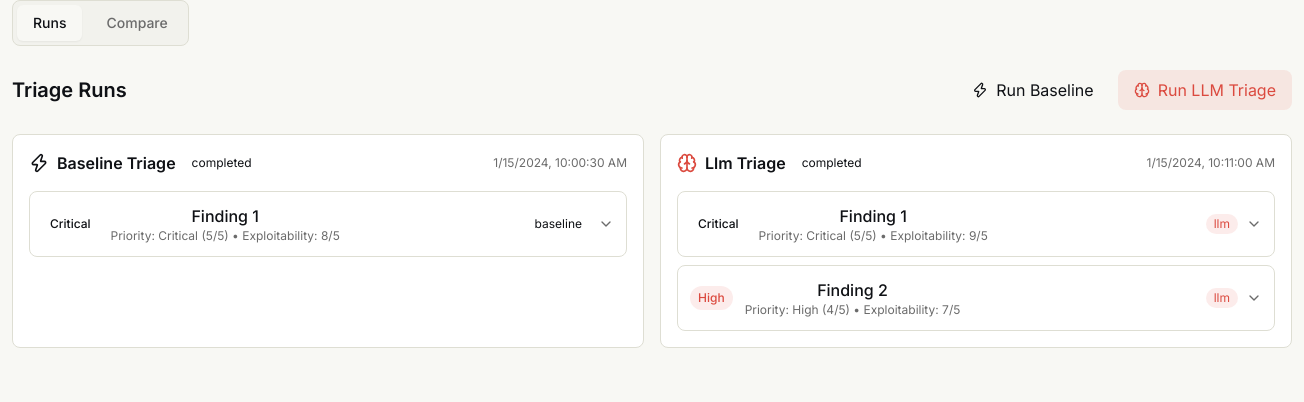
Test: TriageView › shows priority changes in compare
This screenshot has width=1304, height=402.
Check: the button "Run Baseline" is shown, box [956,70,1110,110]
Click the button "Compare": point(137, 23) [90,5,184,41]
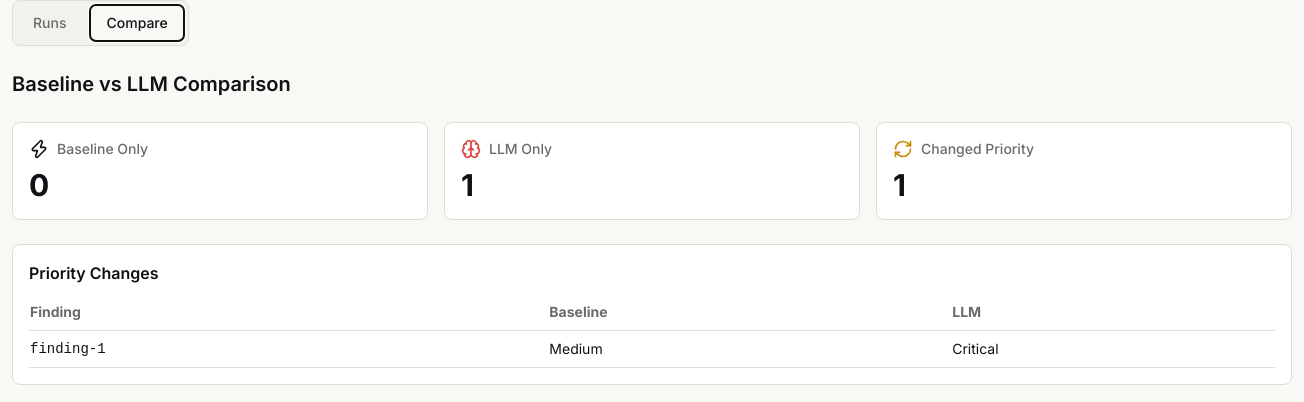
Check: the heading "Priority Changes" is shown, box [29,263,159,283]
Check: the text "finding-1" is shown, box [29,330,548,368]
Check: the text "Medium" is shown, box [548,330,951,368]
